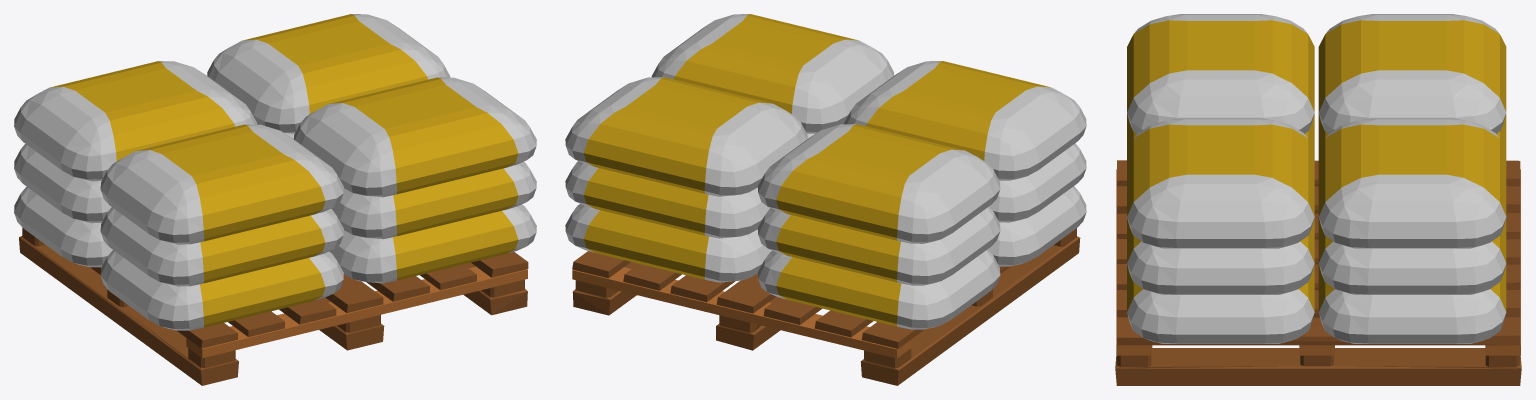
Rendered from cement.glb.
The picture shows the model from 3 angles, left to right: view 1: azimuth 30°, elevation 25°; view 2: azimuth 150°, elevation 25°; view 3: azimuth 270°, elevation 25°; orthographic projection. The views are drawn at different scales.
Parts seen in each view (by area): view 1: Cement Bag B; view 2: Cement Bag B; view 3: Cement Bag B.
Boxes of the visible parts, <box> form: Cement Bag B: <box>14,14,536,385</box>; Cement Bag B: <box>565,14,1086,385</box>; Cement Bag B: <box>1115,14,1521,385</box>.
Bounding box in the file's own units: 0.26 × 0.1173 × 0.2151.
